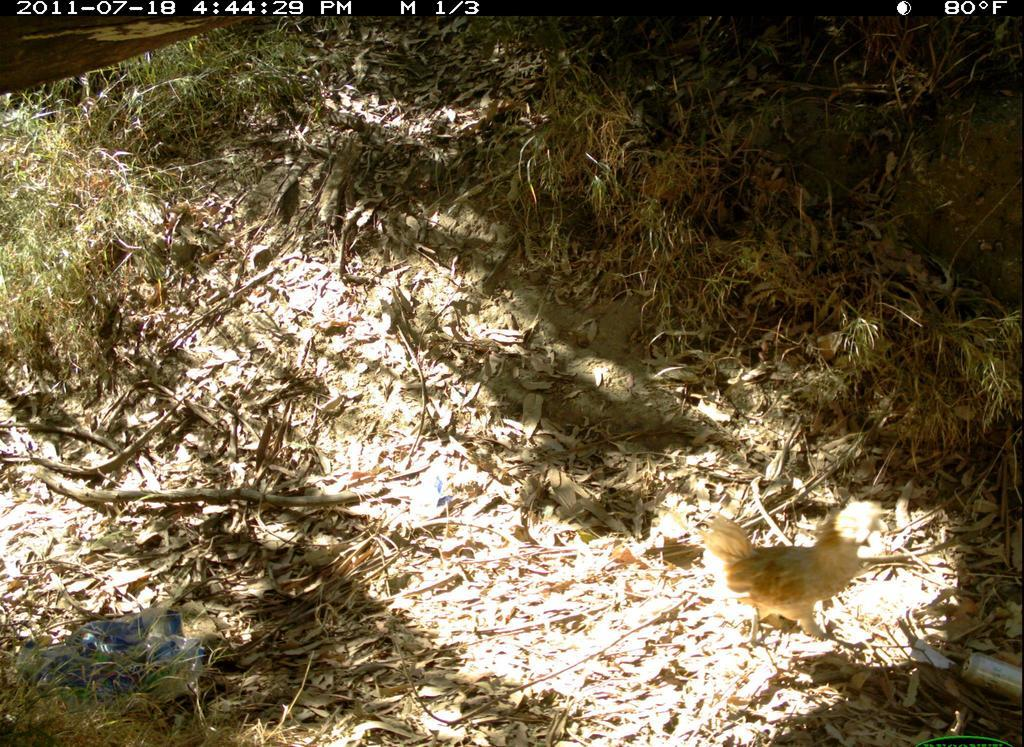bird: (702, 472, 889, 655)
